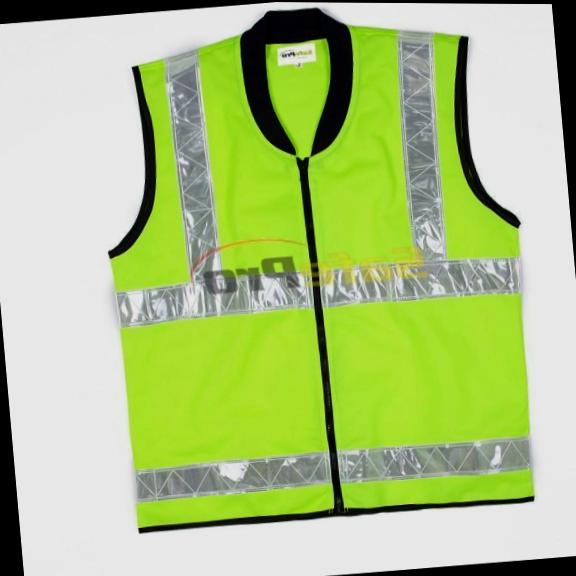safety_vest: (86, 1, 548, 538)
